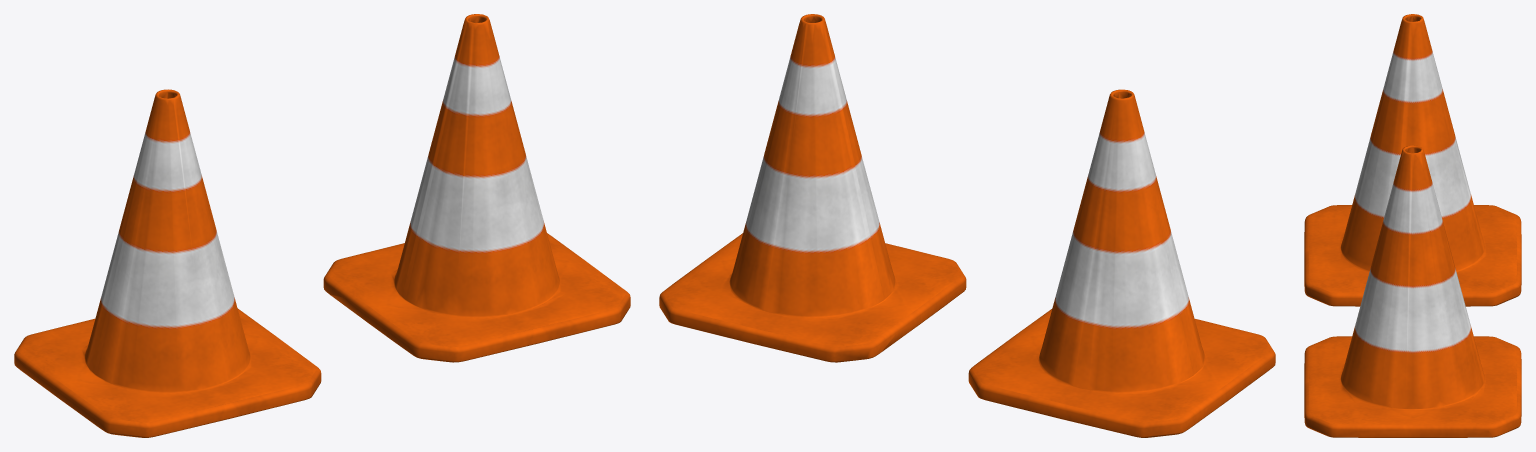
File: traffic_cone.glb
The picture shows the model from 3 angles, left to right: view 1: azimuth 30°, elevation 25°; view 2: azimuth 150°, elevation 25°; view 3: azimuth 270°, elevation 25°; orthographic projection. The views are drawn at different scales.
Visible parts, largest first — view 1: Cone Normal; view 2: Cone Normal; view 3: Cone Normal.
Boxes of the visible parts, left/top/right/bottom form: Cone Normal: left=14, top=14, right=630, bottom=437; Cone Normal: left=659, top=14, right=1275, bottom=437; Cone Normal: left=1304, top=14, right=1521, bottom=437.
Size of the model in its own units: 1.02 by 0.5189 by 0.42.
Materials: 1 (1 with a texture image).
